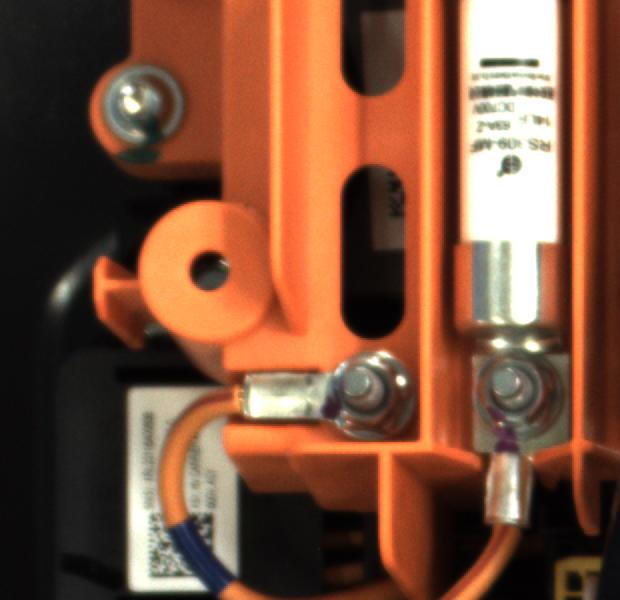screw_m: (91, 60, 197, 153)
screw_s: (310, 350, 413, 445), (470, 346, 564, 438)
